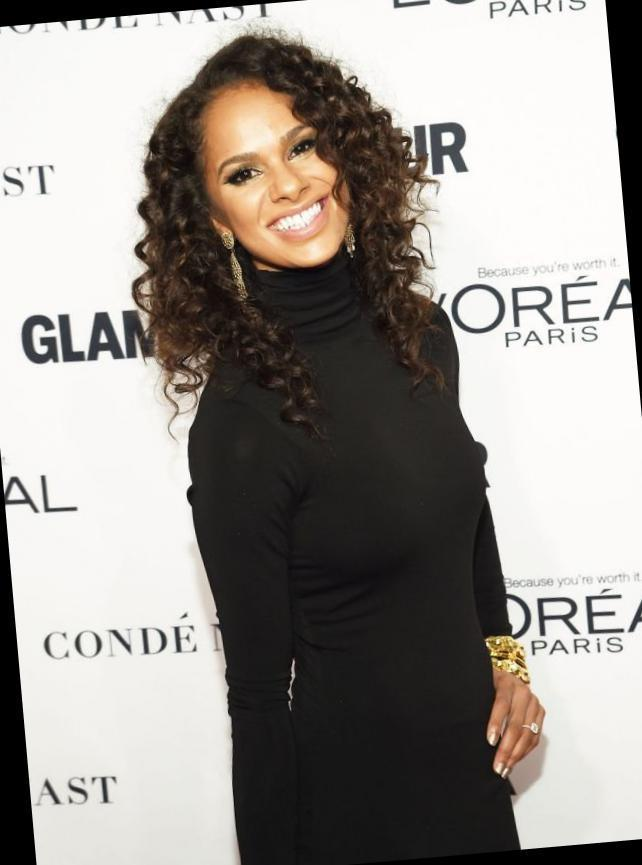Sober: (221, 96, 342, 260)
